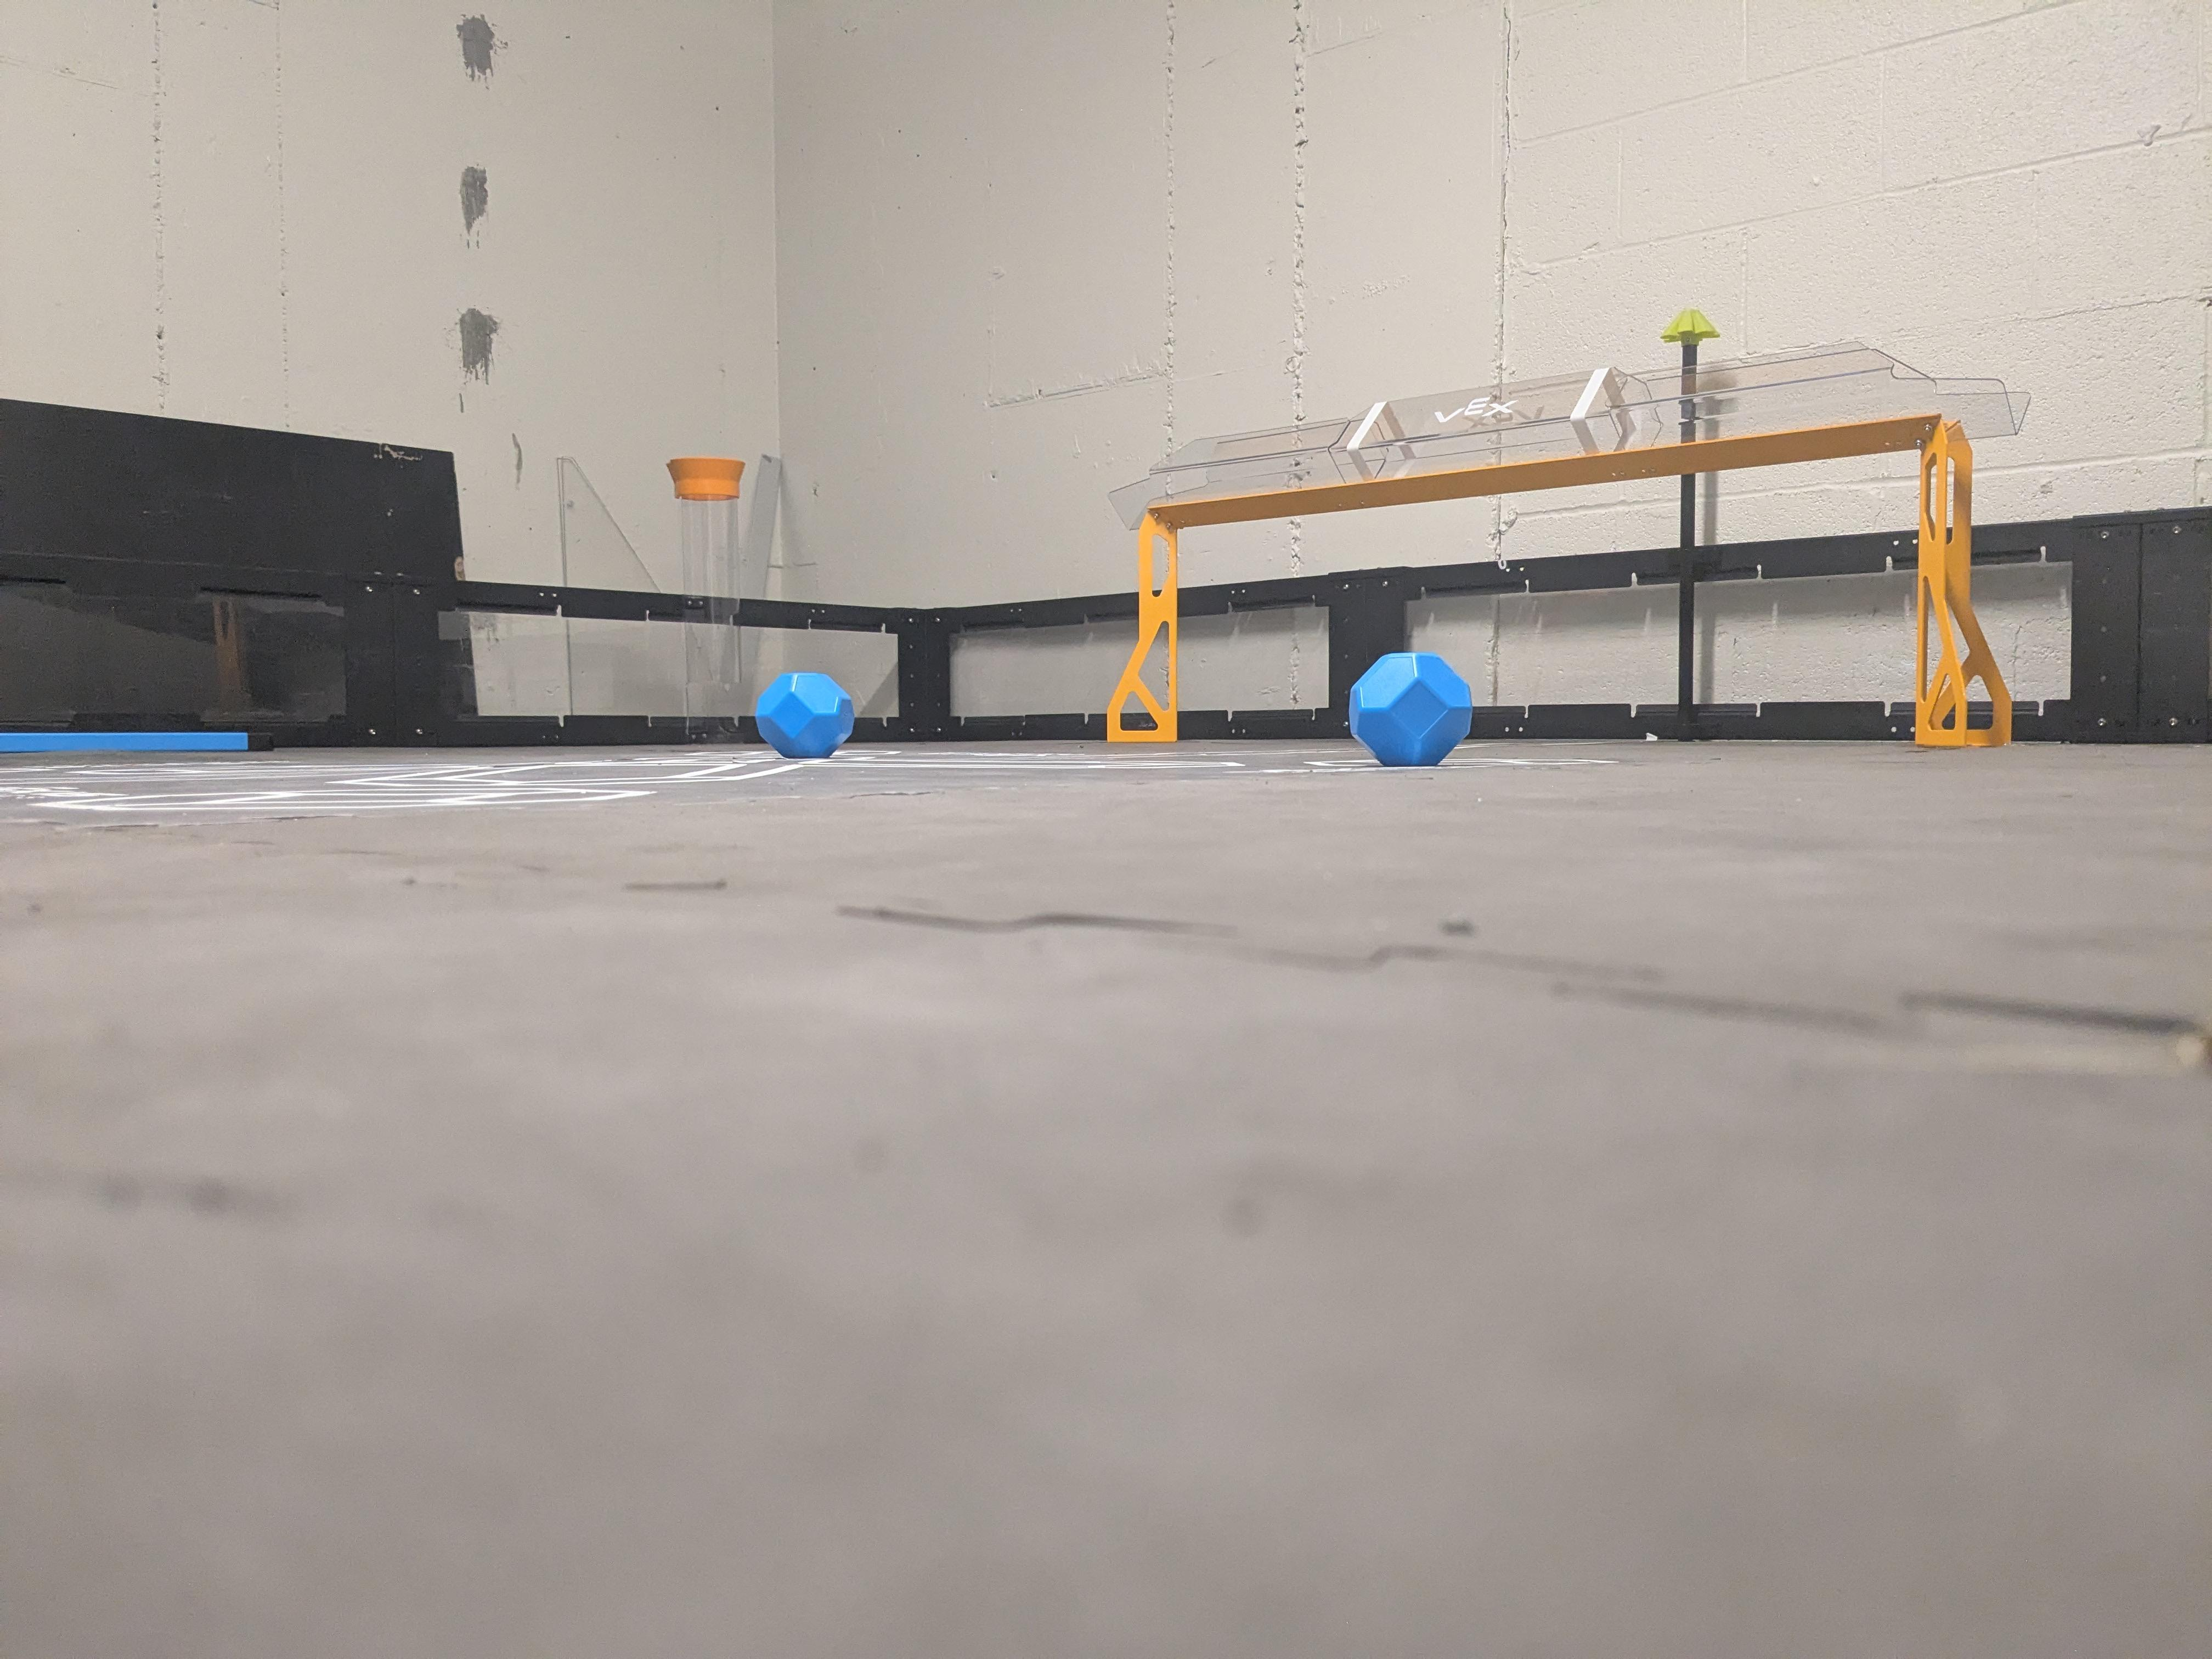Vex-Pieces-BLUE: (1348, 653, 1472, 765), (756, 671, 853, 755)
